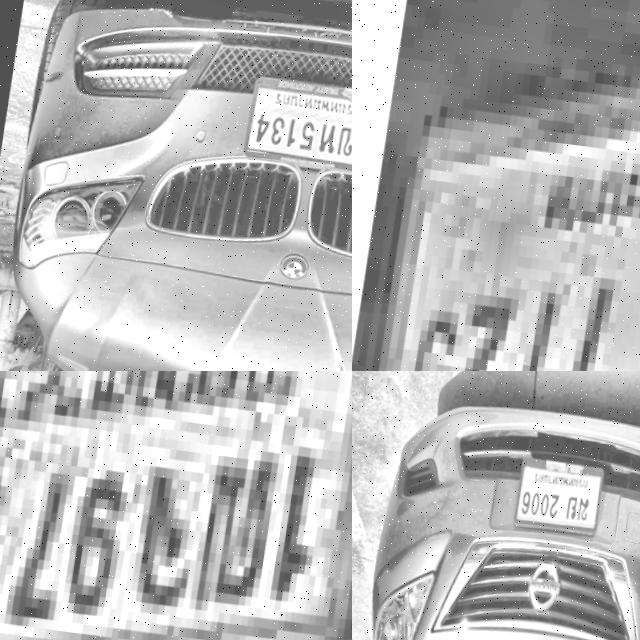license-plate: (352, 0, 640, 371), (0, 371, 352, 640), (241, 69, 352, 180), (511, 439, 612, 540)
